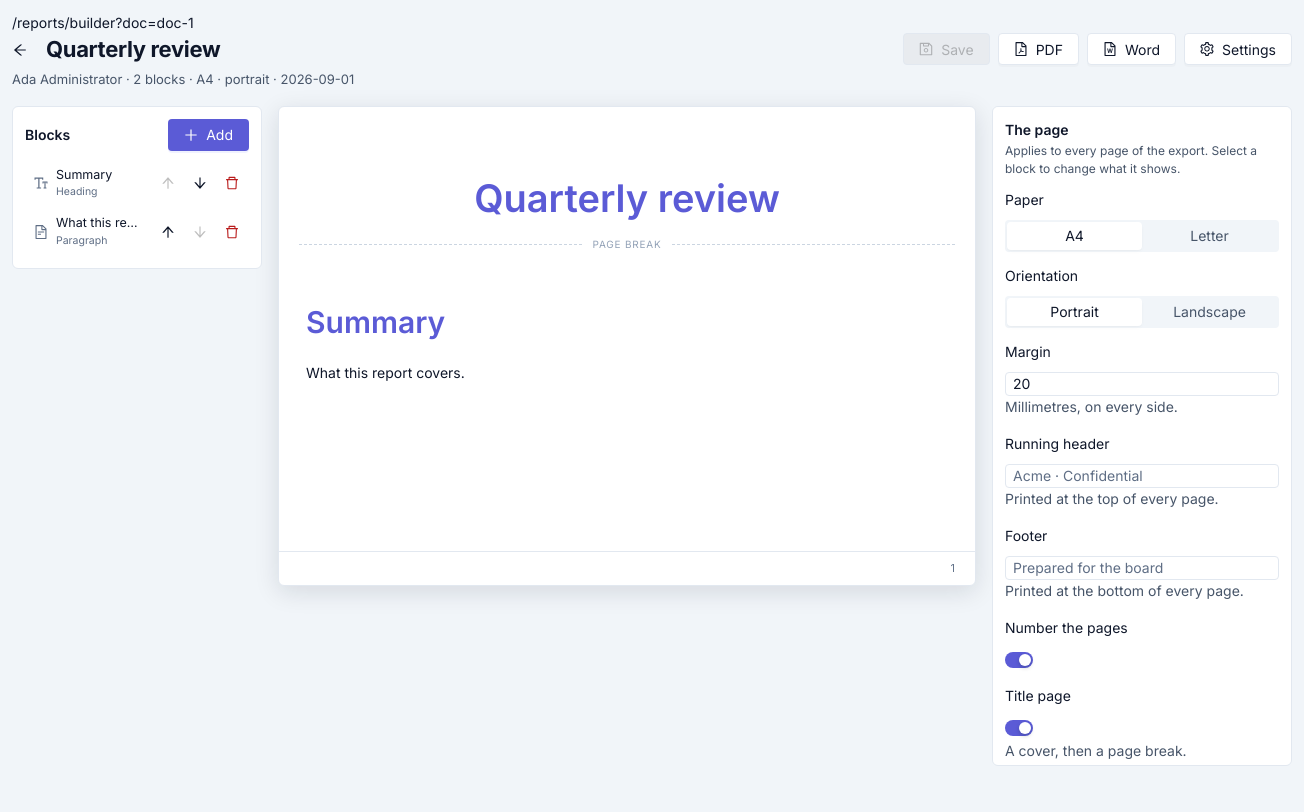
Scenario: the report builder — a document, not a chart › composes a page out of blocks, and previews it as paper
The image size is (1304, 812).
Expected: the heading "Summary" is shown, [306,304,445,340]
Expected: the 2nd text "What this report covers." is shown, [306,364,465,381]
Click the button with test id "add-block".
click(209, 134)  # box [168,118,249,150]
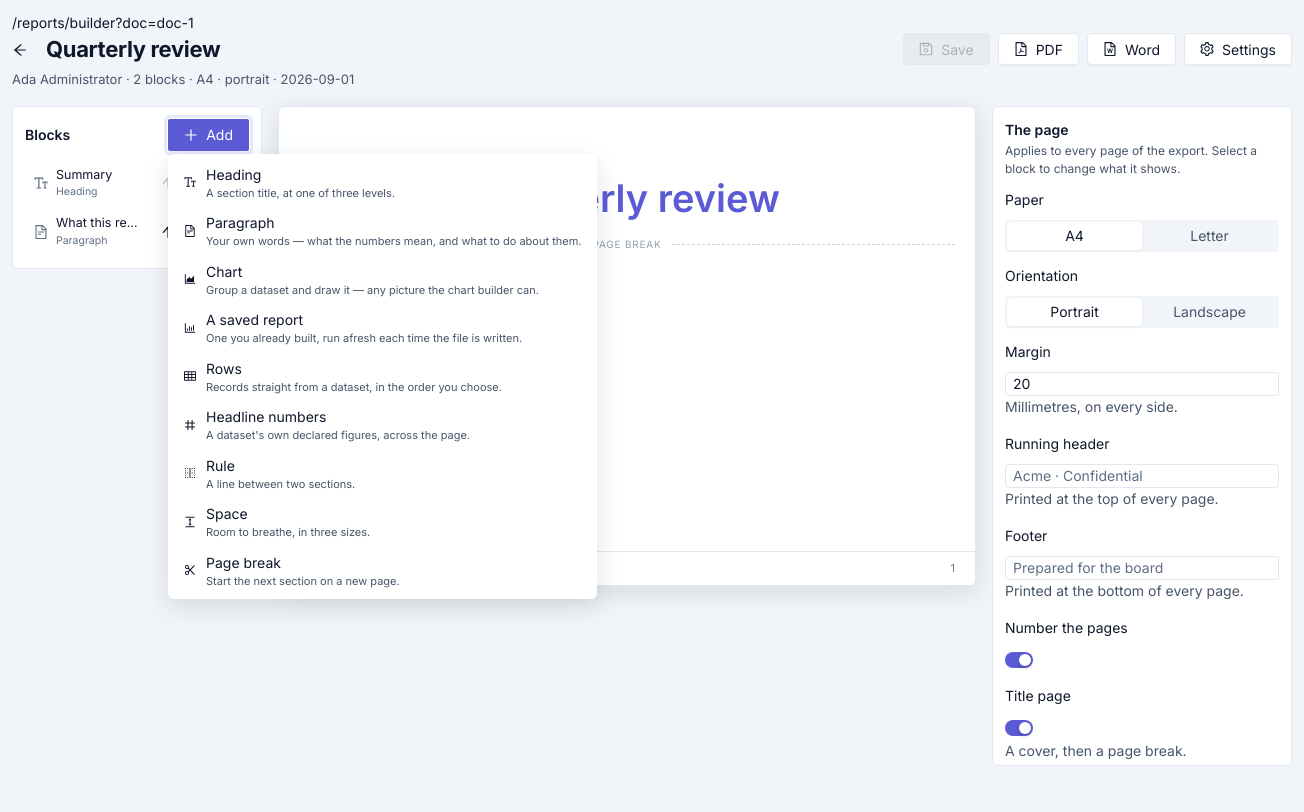
Click the menu item "A saved report".
click(353, 328)  # box [184,311,522,345]
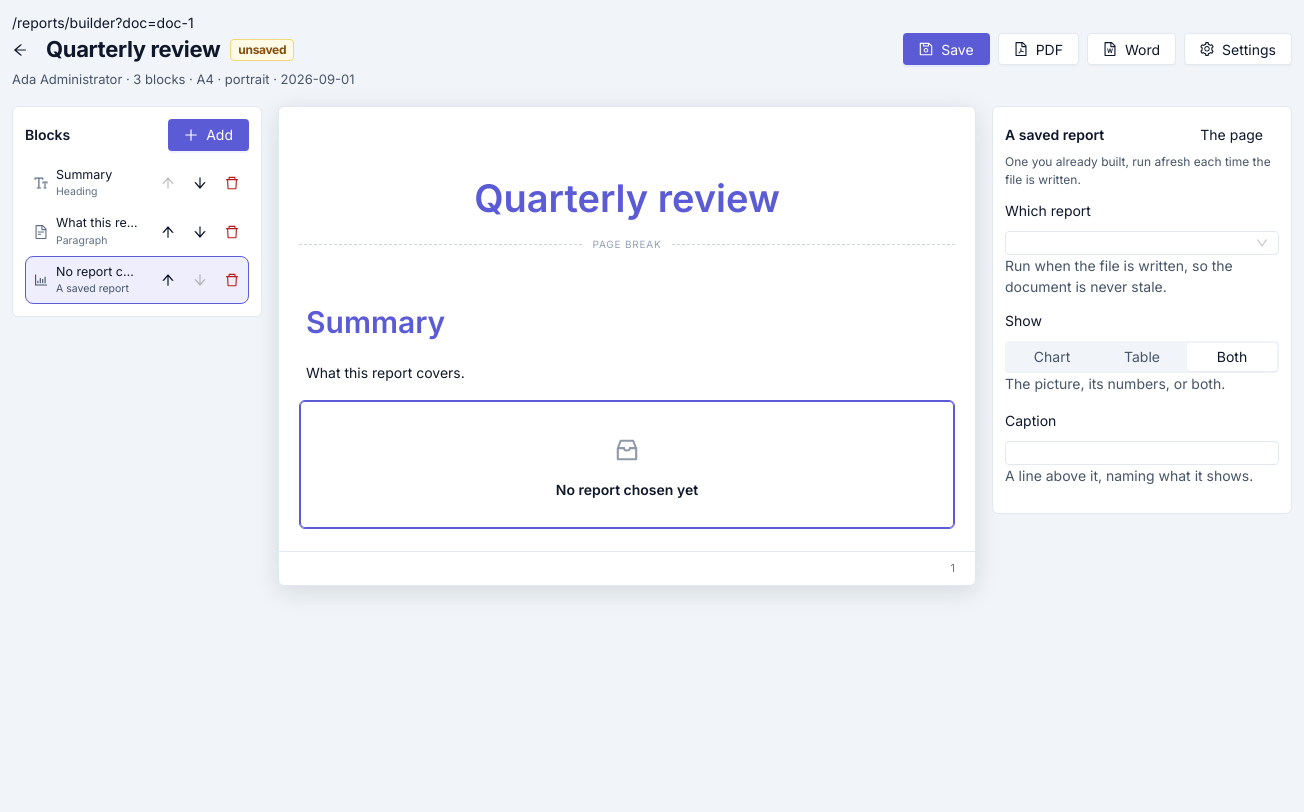
Expected: the element with test id "outline-b3" is shown, [25,256,249,304]
Expected: the dropdown named "Report" is shown, [1013,232,1253,254]
